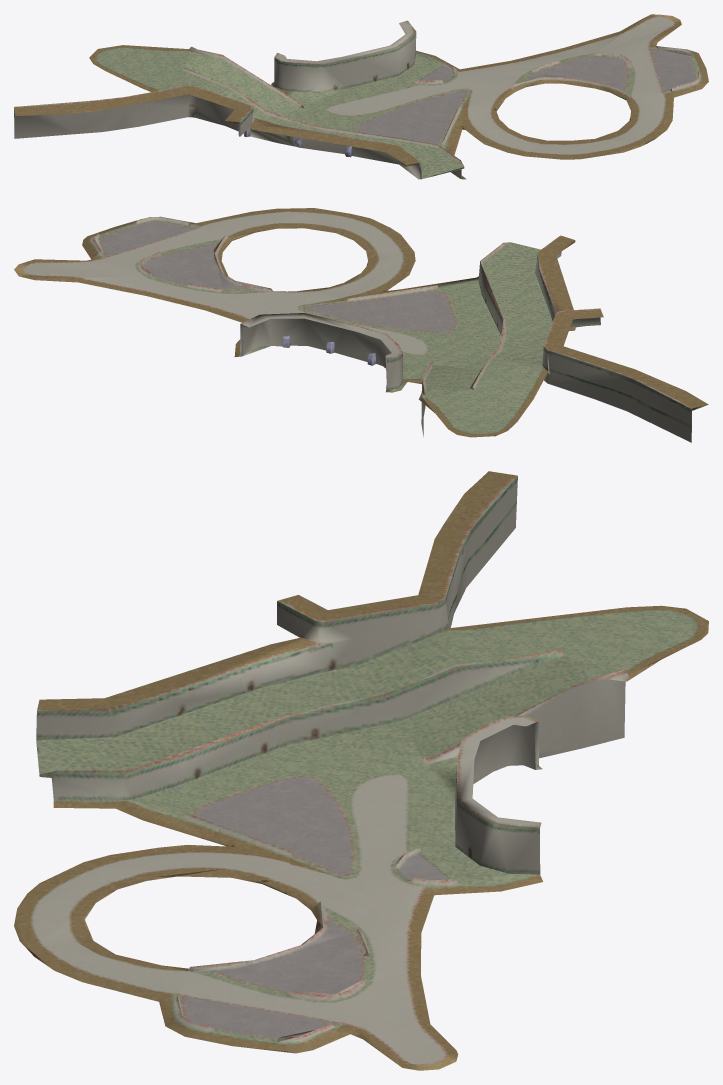
The model's file is clod_town_t07_clod_far000.gltf.
3 views of the same model, one above another, from view 1: azimuth 30°, elevation 25°; view 2: azimuth 150°, elevation 25°; view 3: azimuth 270°, elevation 25° (orthographic). The views are drawn at different scales.
Parts seen in each view (by area): view 1: clod_town_t07_clod_far000_000_meshShape:remesh_mat; view 2: clod_town_t07_clod_far000_000_meshShape:remesh_mat; view 3: clod_town_t07_clod_far000_000_meshShape:remesh_mat.
Boxes of the visible parts, box(x1,y1,x2,y2) form: clod_town_t07_clod_far000_000_meshShape:remesh_mat: box(14, 14, 708, 179); clod_town_t07_clod_far000_000_meshShape:remesh_mat: box(14, 208, 708, 442); clod_town_t07_clod_far000_000_meshShape:remesh_mat: box(14, 471, 708, 1070).
Size of the model in its own units: 250 by 21.37 by 140.
Materials: 1 (1 with a texture image).
